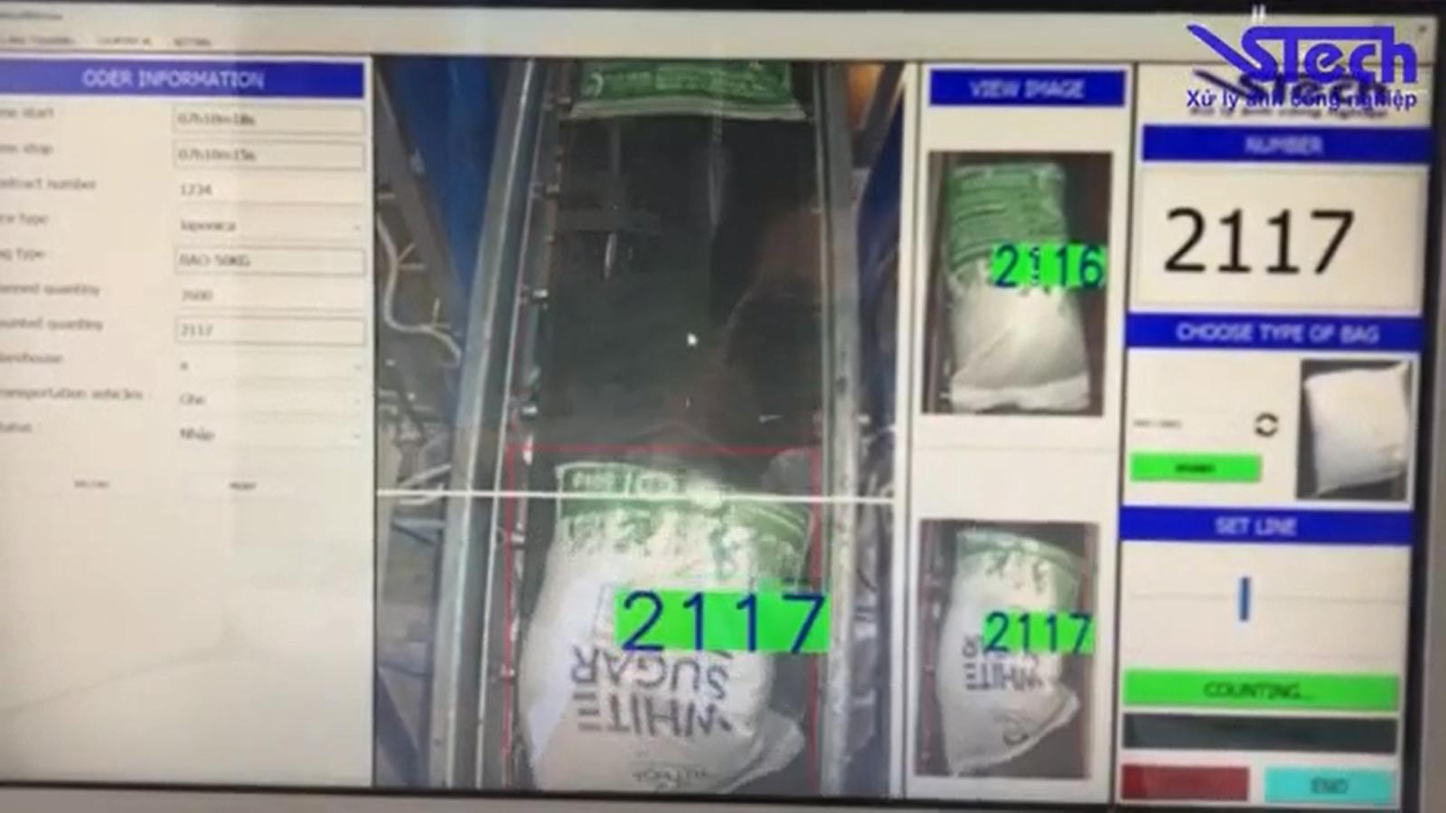rice-bag: (518, 457, 815, 792), (937, 159, 1092, 413), (934, 528, 1082, 772)
